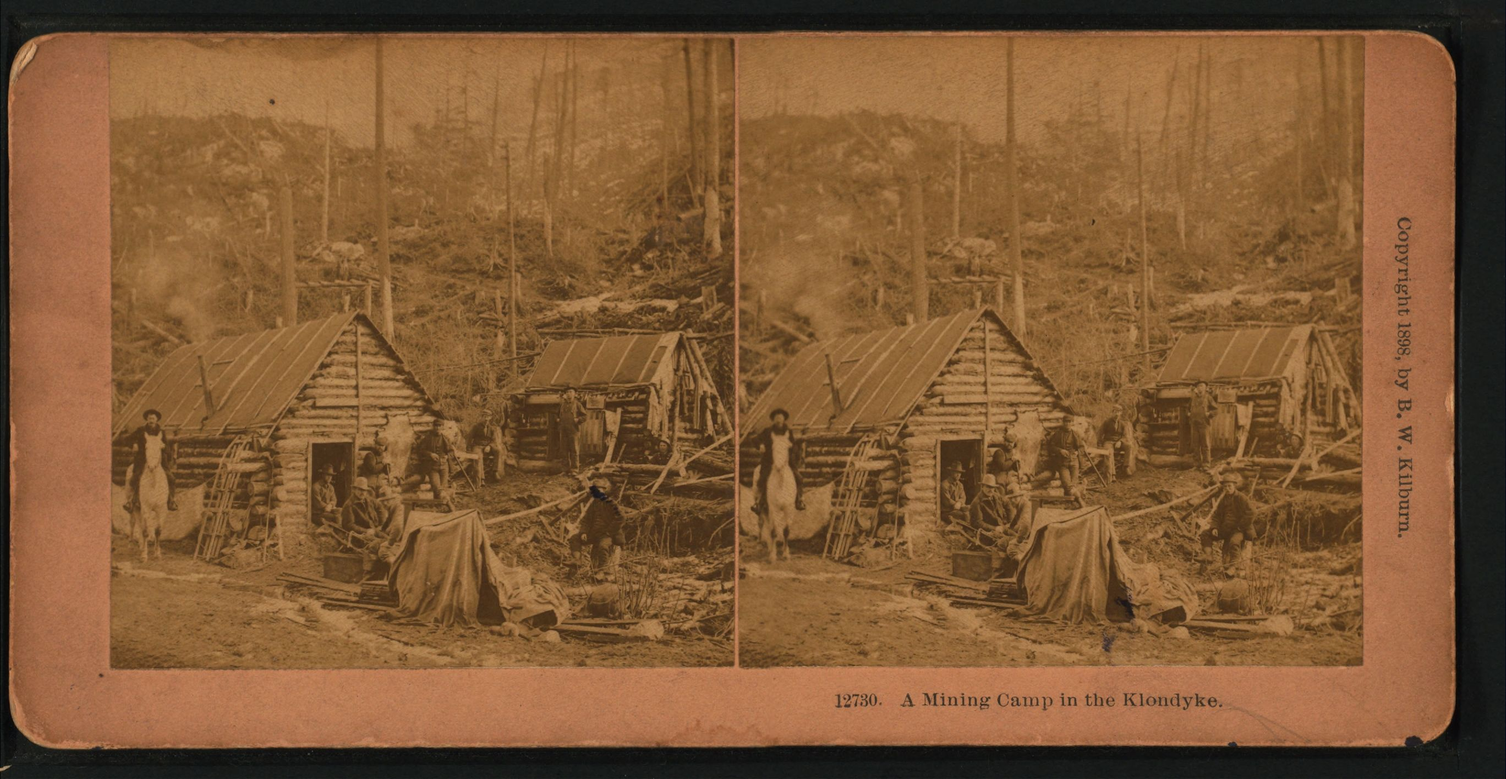half_image: (738, 35, 1365, 670), (111, 36, 736, 671)
